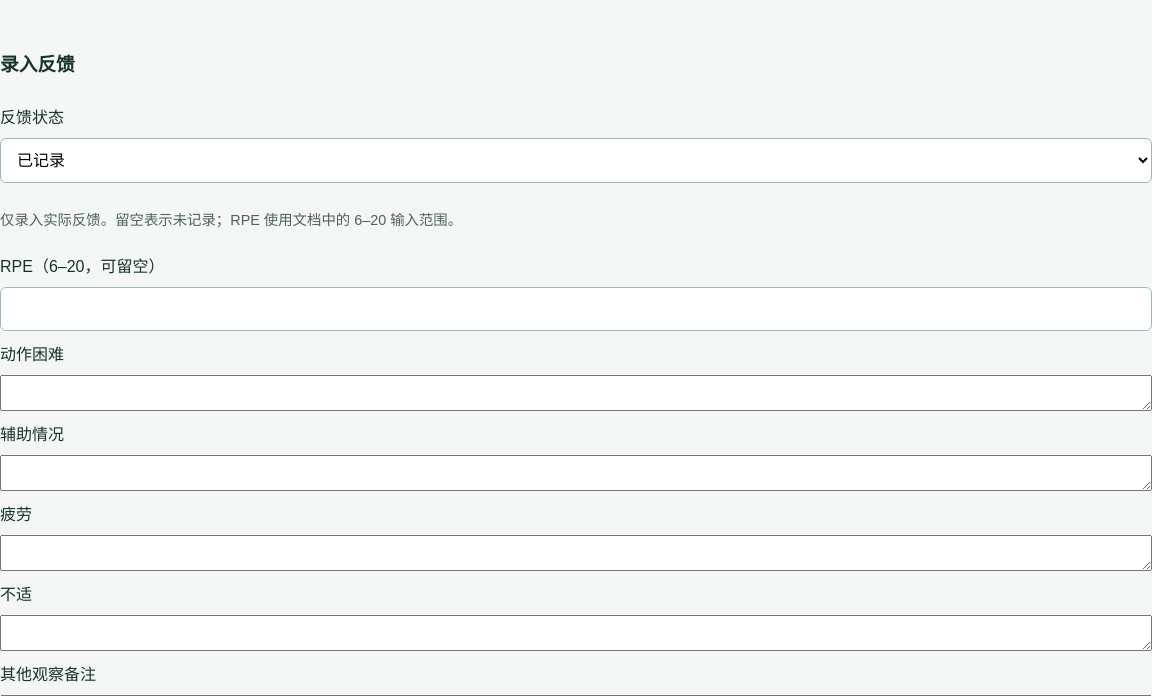
Test: training feedback form › separates recorded observations from missing feedback
The image size is (1152, 696).
Expected: the number field labelled "RPE（6–20，可留空）" is shown, [0,287,1151,331]
Select "缺失" in the dropdown labelled "反馈状态". click: point(576, 161)
box: [0,138,1151,183]
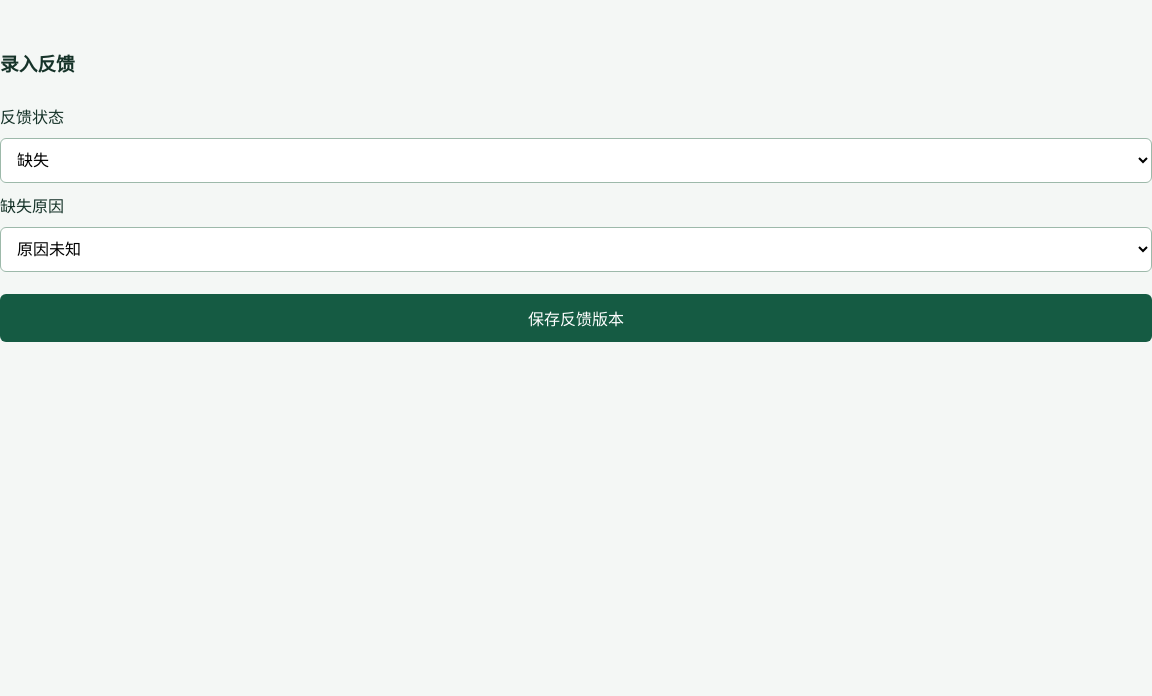
Expected: the label labelled "RPE（6–20，可留空）" is gone
Expected: the dropdown labelled "缺失原因" is shown, [0,227,1151,272]
